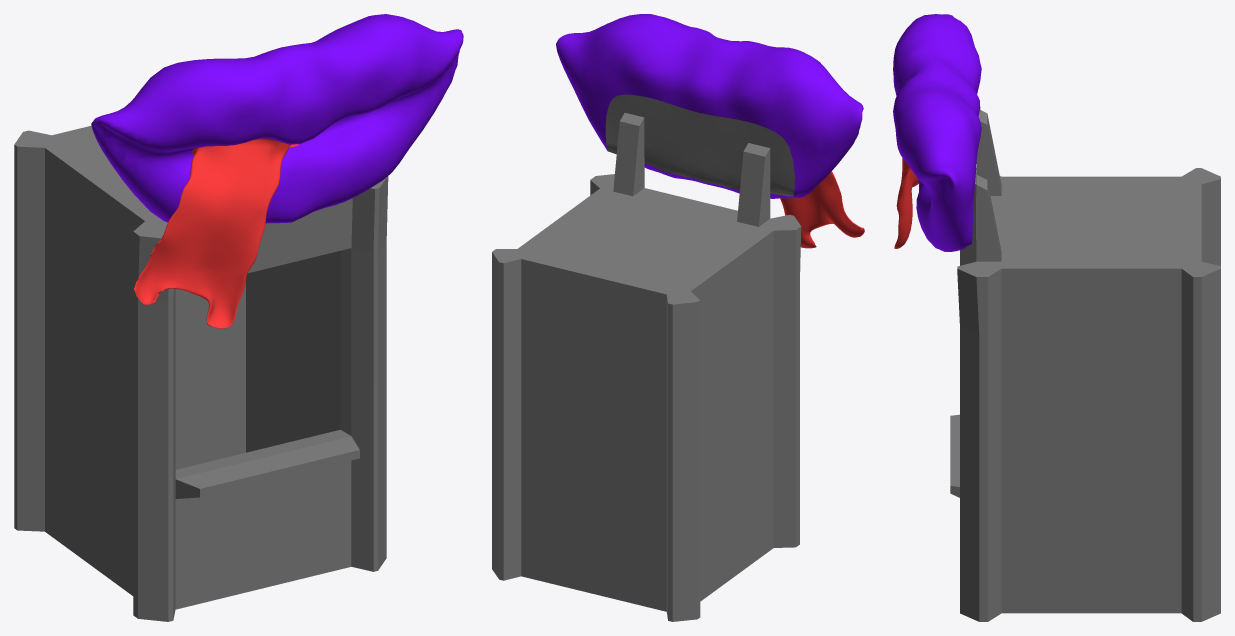
Rendered from SM_TicketBooth.fbx.
The picture shows the model from 3 angles, left to right: view 1: azimuth 30°, elevation 25°; view 2: azimuth 150°, elevation 25°; view 3: azimuth 270°, elevation 25°; orthographic projection. The views are drawn at different scales.
Parts seen in each view (by area): view 1: Booth_low, Lips_low, Ticket_low; view 2: Booth_low, Lips_low, Ticket_low; view 3: Booth_low, Lips_low, Ticket_low.
Part boxes in pixels (x1,y1,x2,y2): Booth_low: [14, 125, 388, 621]; Lips_low: [91, 14, 463, 223]; Ticket_low: [134, 138, 298, 328]; Booth_low: [492, 113, 801, 621]; Lips_low: [556, 14, 863, 198]; Ticket_low: [780, 171, 864, 248]; Booth_low: [950, 109, 1220, 621]; Lips_low: [893, 14, 981, 251]; Ticket_low: [894, 158, 918, 248].
Bounding box in the file's own units: 138 × 202 × 118.
